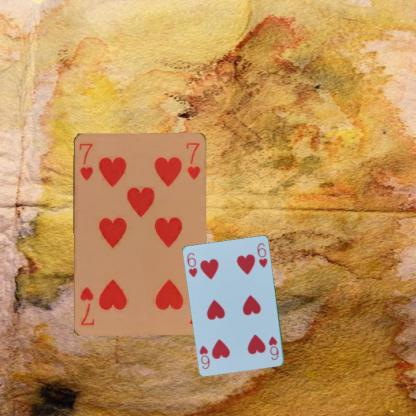6h: (184, 250, 199, 279), (266, 334, 281, 362)
7h: (76, 140, 94, 182)
